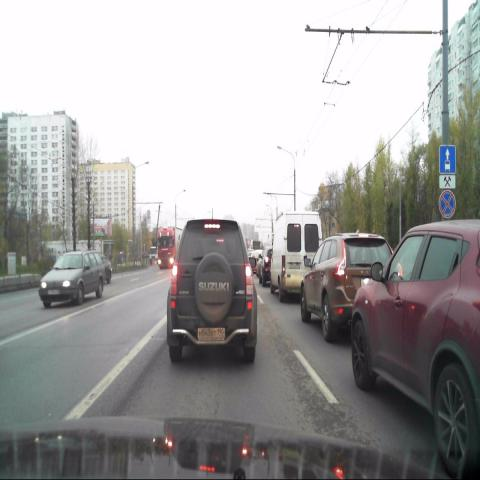5_14: (439, 145, 456, 174)
